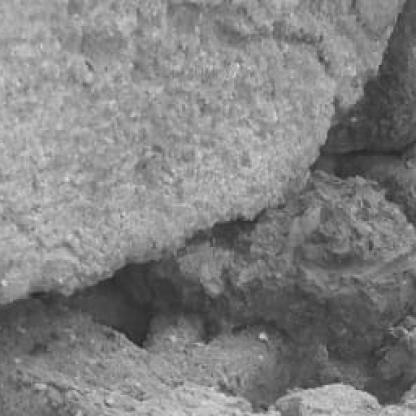cementitious_debris: (1, 3, 413, 413)
